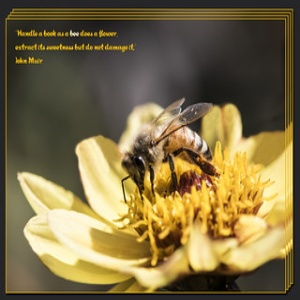bee: (118, 96, 221, 203)
